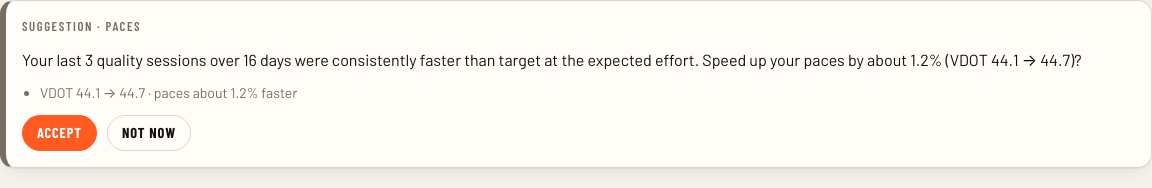
proposal card › Not now declines and says the plan stays
The width and height of the screenshot is (1152, 188).
Click the button "Not now".
click(149, 133)  # box 107,115 -> 191,151
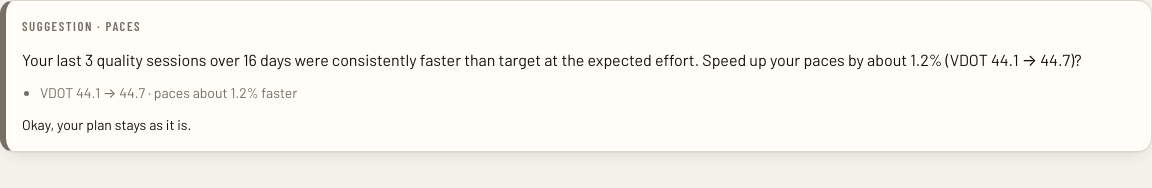
Expected: the text "Okay, your plan stays as it is." is shown, 22,116 -> 192,133
